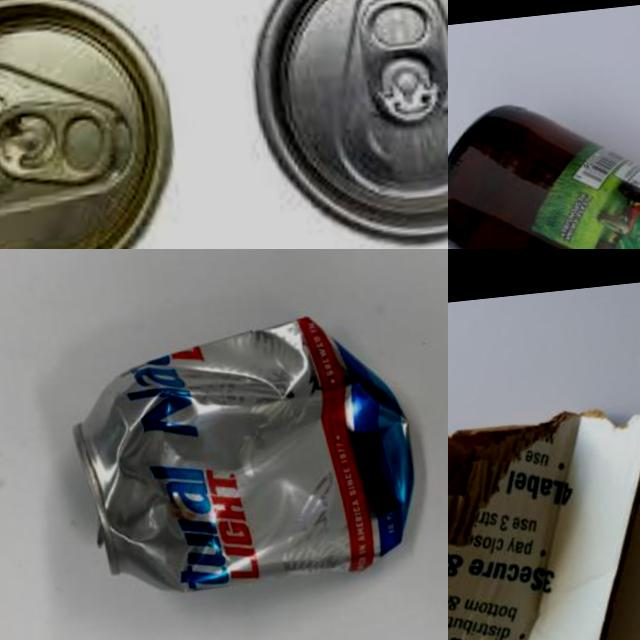aba de lata: (0, 87, 127, 203), (348, 0, 448, 132)
garrafa de vidro: (448, 55, 640, 249)
lata: (62, 303, 427, 603)
papelão: (448, 396, 640, 640)
